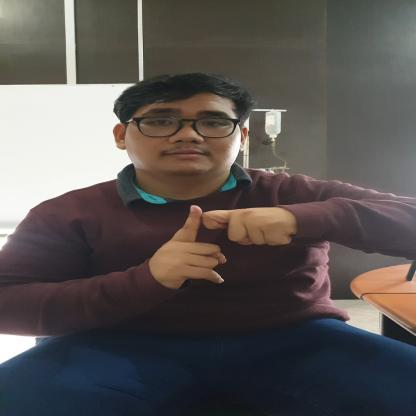K: (147, 202, 304, 291)
